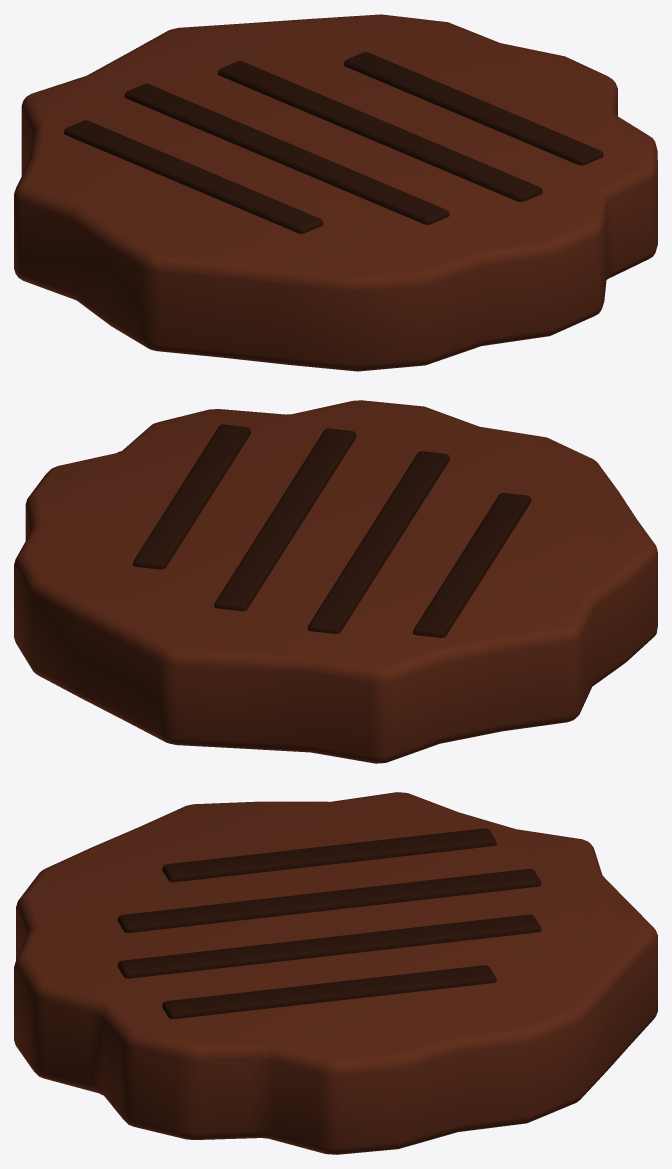
File: food_ingredient_burger_cooked.gltf
3 renders of one model, top to bottom at view 1: azimuth 30°, elevation 25°; view 2: azimuth 150°, elevation 25°; view 3: azimuth 270°, elevation 25°, orthographic.
Parts seen in each view (by area): view 1: CookedBurgerPatty; view 2: CookedBurgerPatty; view 3: CookedBurgerPatty.
Boxes of the visible parts, left/top/right/bottom form: CookedBurgerPatty: left=14, top=14, right=657, bottom=371; CookedBurgerPatty: left=14, top=400, right=657, bottom=763; CookedBurgerPatty: left=14, top=792, right=657, bottom=1154.
Bounding box in the file's own units: 0.4241 × 0.072 × 0.4176.
